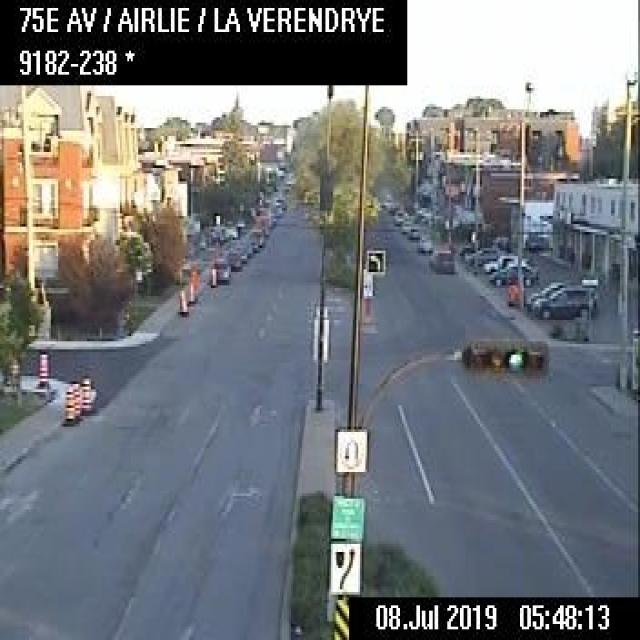construction: (79, 374, 92, 413), (6, 356, 19, 393), (62, 384, 74, 422), (36, 349, 48, 384), (70, 381, 80, 420), (176, 286, 187, 316), (188, 266, 198, 296), (186, 279, 194, 304), (208, 264, 216, 286)
vehicle: (532, 283, 596, 318), (488, 262, 536, 286), (524, 279, 563, 306), (482, 254, 527, 271), (428, 247, 451, 269), (209, 255, 229, 280), (224, 249, 240, 269), (417, 233, 430, 251), (248, 227, 261, 244), (233, 246, 245, 260), (407, 225, 419, 238), (392, 208, 402, 223), (240, 241, 251, 254), (246, 236, 256, 250), (400, 220, 410, 231)
